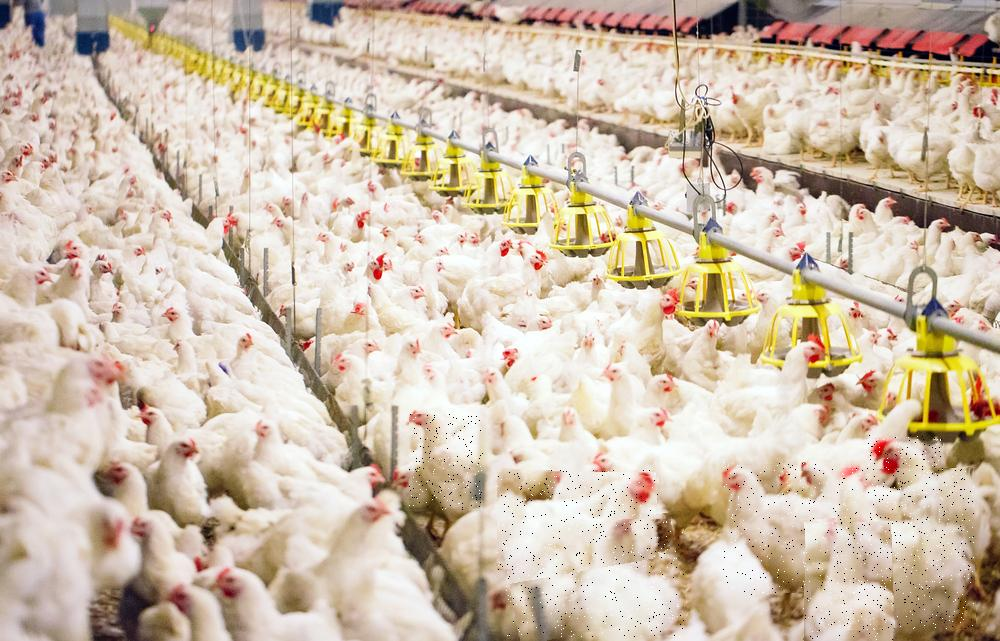chicken: (838, 469, 975, 630), (507, 520, 685, 638), (498, 470, 659, 572), (723, 462, 838, 596), (803, 521, 893, 641), (410, 415, 484, 511), (868, 435, 942, 493)
